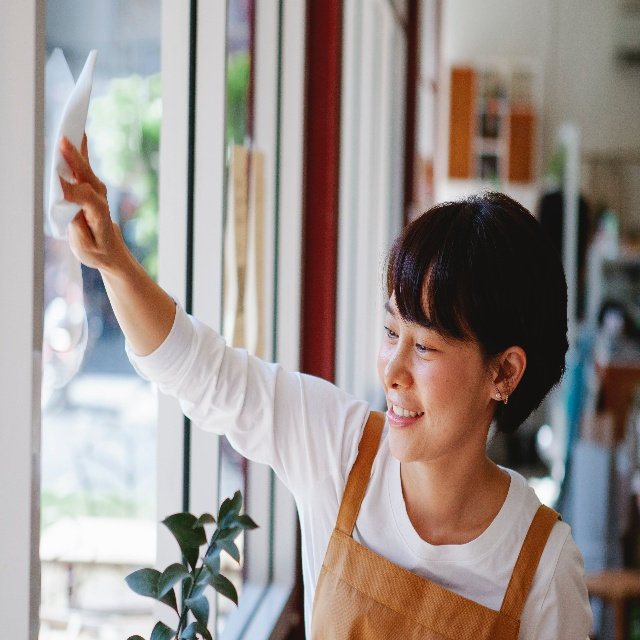Sin_guantes: (54, 127, 125, 269)
